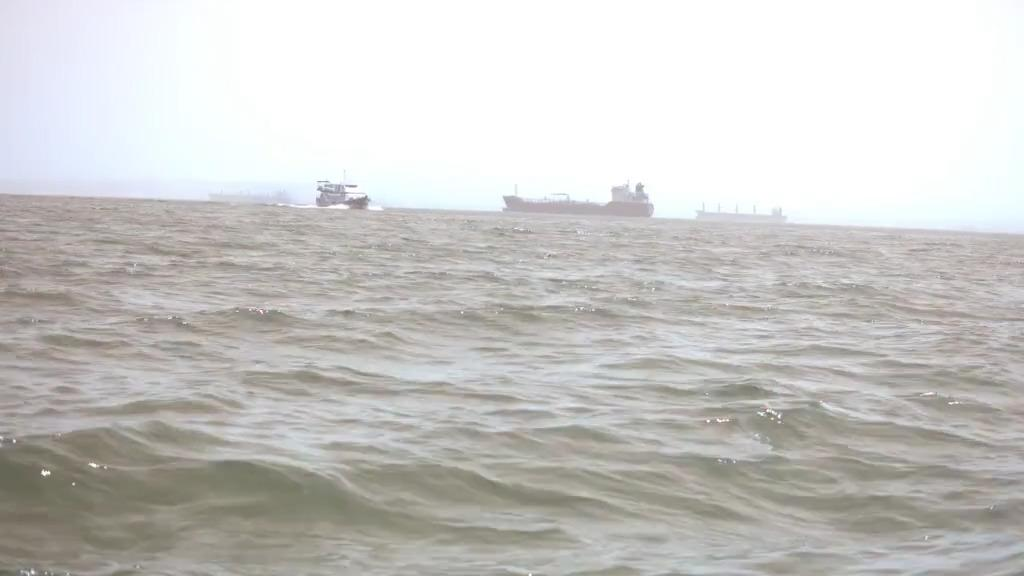PassengerShip: (312, 169, 372, 211)
